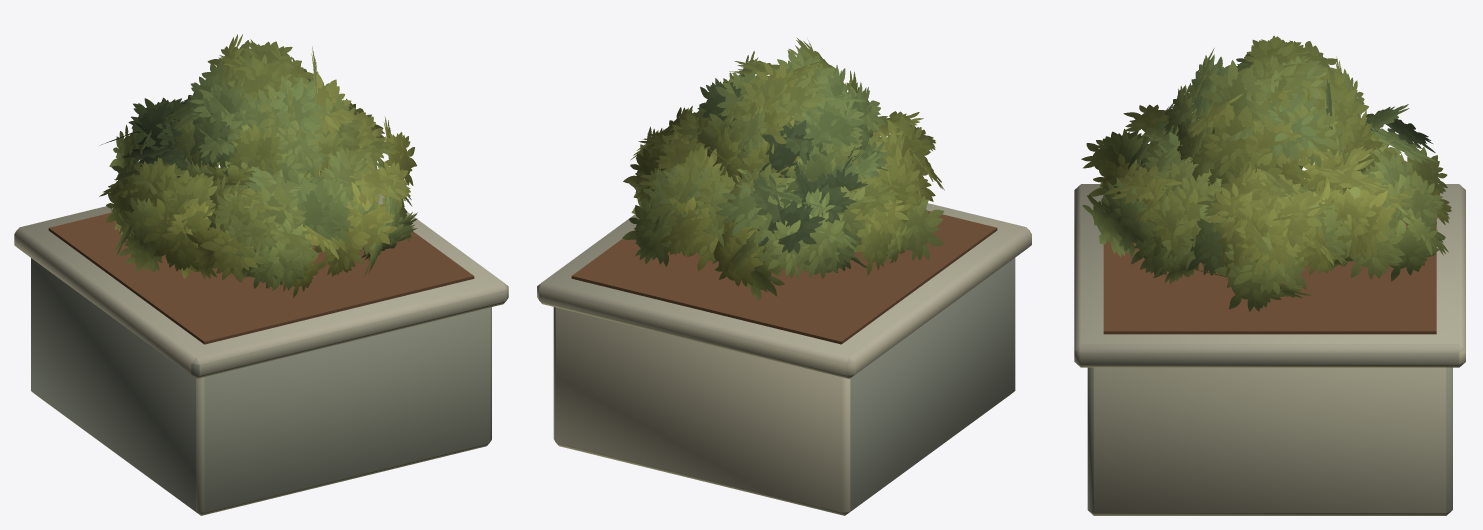
The model's file is planter_square.glb.
3 renders of one model, left to right at view 1: azimuth 30°, elevation 25°; view 2: azimuth 150°, elevation 25°; view 3: azimuth 270°, elevation 25°, orthographic. The views are drawn at different scales.
Parts seen in each view (by area): view 1: body; view 2: body; view 3: body.
Boxes of the visible parts, bbox=[...] form: body: bbox=[14, 34, 508, 515]; body: bbox=[537, 37, 1031, 515]; body: bbox=[1074, 36, 1465, 515].
Size of the model in its own units: 1.25 by 1.42 by 1.25.
2 materials, 1 textured.
